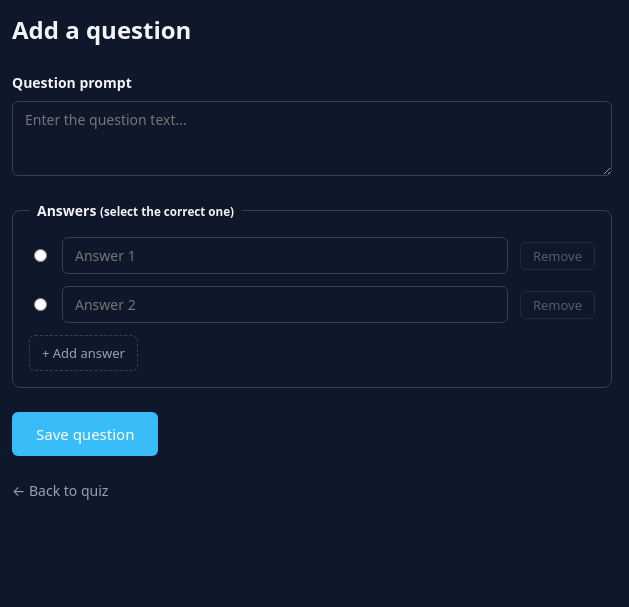
Test case: Add question page › shows error when submitting without a correct answer
Type "My question?" into the text box labelled "Question prompt". click: (312, 138)
box: left=12, top=101, right=612, bottom=176
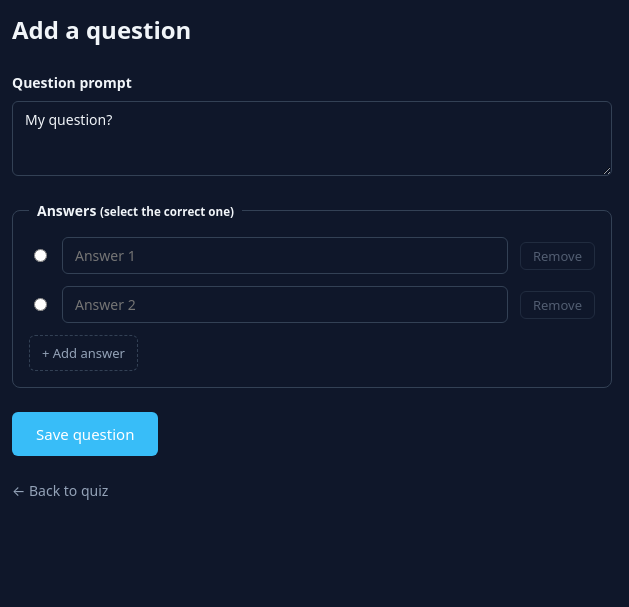
# Don't select a correct answer
Submit the form
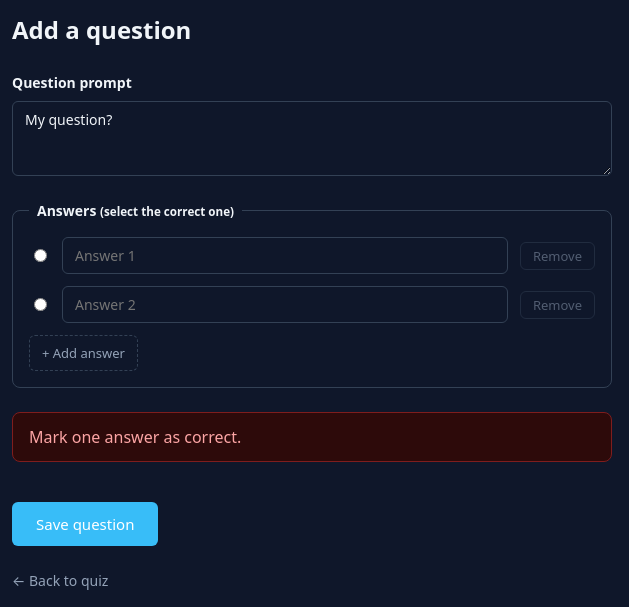
Check: the text "Mark one answer as correct" is shown, box left=29, top=426, right=241, bottom=448
